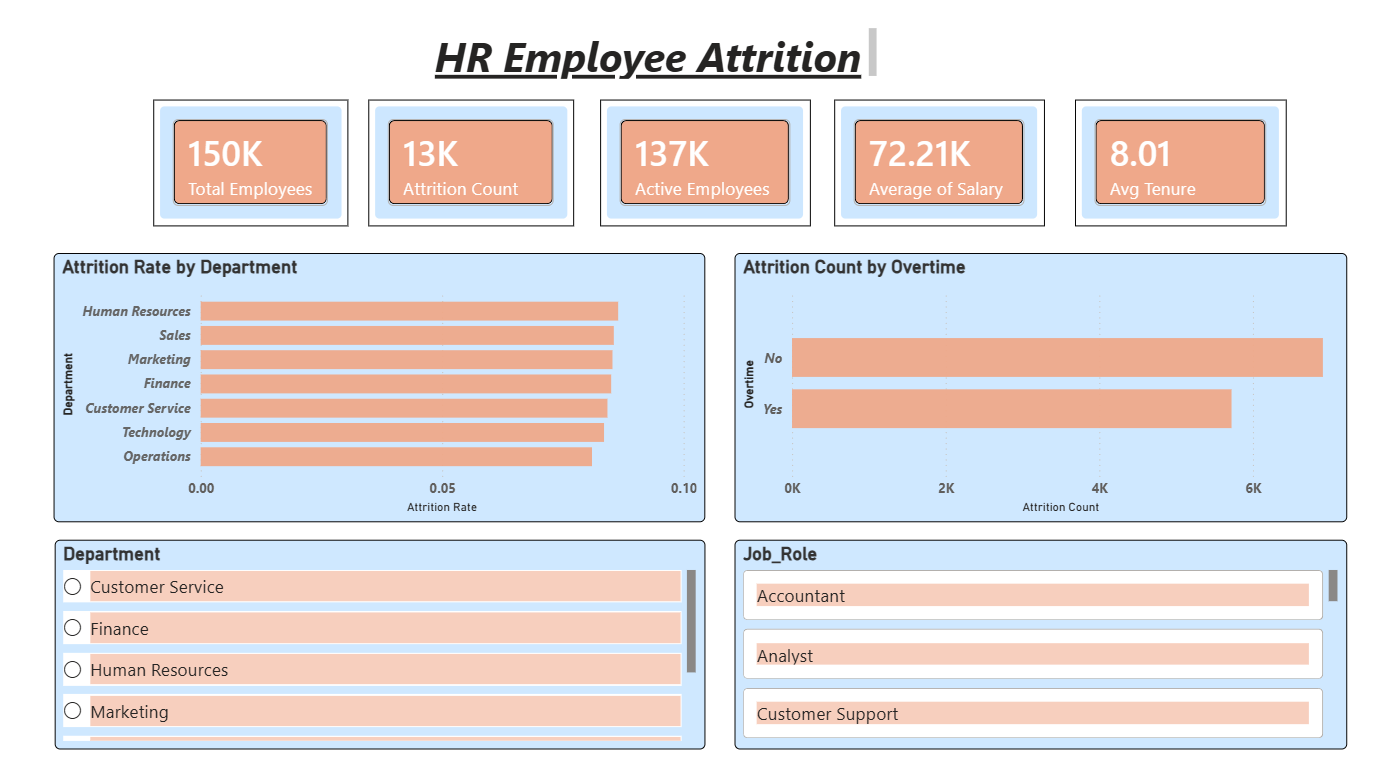

What the dashboard file says about the page in this screenshot:
{"tool":"powerbi","page":{"name":"Page 1","canvas":[1280,720],"ordinal":0},"visuals":[{"type":"cardVisual","fields":{"Data":["HR_Employee_Attrition_150K.Total Employees"]},"box":[155.8,115.8,178.3,115.8],"z":0},{"type":"textbox","box":[407.9,45.1,415.1,56.4],"z":1000},{"type":"cardVisual","fields":{"Data":["HR_Employee_Attrition_150K.Active Employees"]},"box":[564.8,115.8,192.7,115.8],"z":2000},{"type":"clusteredBarChart","fields":{"Category":["HR_Employee_Attrition_150K.Overtime"],"Y":["HR_Employee_Attrition_150K.Attrition Count"]},"box":[687.7,256.2,560.7,246],"z":3000},{"type":"cardVisual","fields":{"Data":["HR_Employee_Attrition_150K.Attrition Count"]},"box":[352.6,115.8,188.6,115.8],"z":4000},{"type":"cardVisual","fields":{"Data":["Avg(HR_Employee_Attrition_150K.Salary)"]},"box":[779,115.8,192.7,115.8],"z":5000},{"type":"listSlicer","fields":{"Values":["HR_Employee_Attrition_150K.Department"]},"box":[65.6,518.6,595.5,191.7],"z":6000},{"type":"advancedSlicerVisual","fields":{"Values":["HR_Employee_Attrition_150K.Job_Role"]},"box":[687.7,518.6,560.7,191.7],"z":7000},{"type":"clusteredBarChart","fields":{"Category":["HR_Employee_Attrition_150K.Department"],"Y":["HR_Employee_Attrition_150K.Attrition Rate"]},"box":[64.6,256.2,596.5,246],"z":8000},{"type":"cardVisual","fields":{"Data":["HR_Employee_Attrition_150K.Avg Tenure"]},"box":[999.3,115.8,193.7,115.8],"z":9000}]}

Visuals, with their boxes in screenshot pixels (x1, y1, x2, y2), scaled from the page's 1280x720 canvas onto the 1376x760 screenshot:
cardVisual - HR_Employee_Attrition_150K.Total Employees: 167,122,359,244
textbox: 438,48,885,107
cardVisual - HR_Employee_Attrition_150K.Active Employees: 607,122,814,244
clusteredBarChart - HR_Employee_Attrition_150K.Overtime x HR_Employee_Attrition_150K.Attrition Count: 739,270,1342,530
cardVisual - HR_Employee_Attrition_150K.Attrition Count: 379,122,582,244
cardVisual - Avg(HR_Employee_Attrition_150K.Salary): 837,122,1045,244
listSlicer - HR_Employee_Attrition_150K.Department: 71,547,711,750
advancedSlicerVisual - HR_Employee_Attrition_150K.Job_Role: 739,547,1342,750
clusteredBarChart - HR_Employee_Attrition_150K.Department x HR_Employee_Attrition_150K.Attrition Rate: 69,270,711,530
cardVisual - HR_Employee_Attrition_150K.Avg Tenure: 1074,122,1282,244
